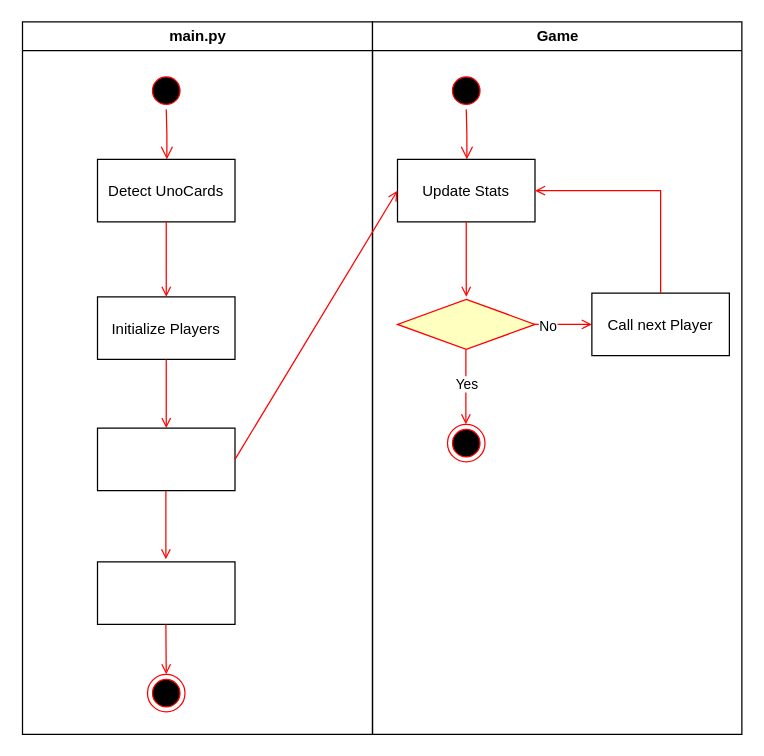
Image size: 764x756. Some labels were removed from this diagram. Here are the shapes that lost their labels. From the top down, the box of each, then its label:
(396, 298, 535, 349): active player wins
(96, 427, 235, 491): Start the game
(96, 561, 235, 624): Cleanup
